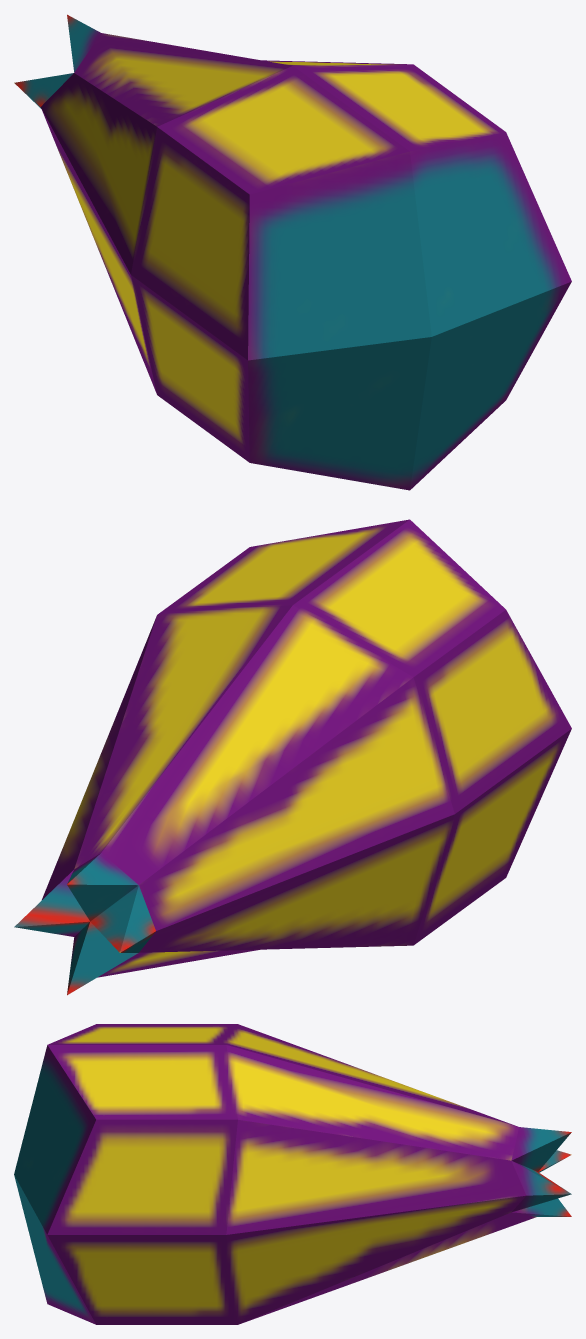
File: shipBulletModel1.fbx
3 views of the same model, one above another, from view 1: azimuth 30°, elevation 25°; view 2: azimuth 150°, elevation 25°; view 3: azimuth 270°, elevation 25° (orthographic). The views are drawn at different scales.
Parts seen in each view (by area): view 1: Cube; view 2: Cube; view 3: Cube.
Part boxes in pixels (x1,y1,x2,y2): Cube: [14, 14, 571, 490]; Cube: [14, 519, 571, 995]; Cube: [14, 1024, 571, 1324].
Bounding box in the file's own units: 253 × 253 × 493.
